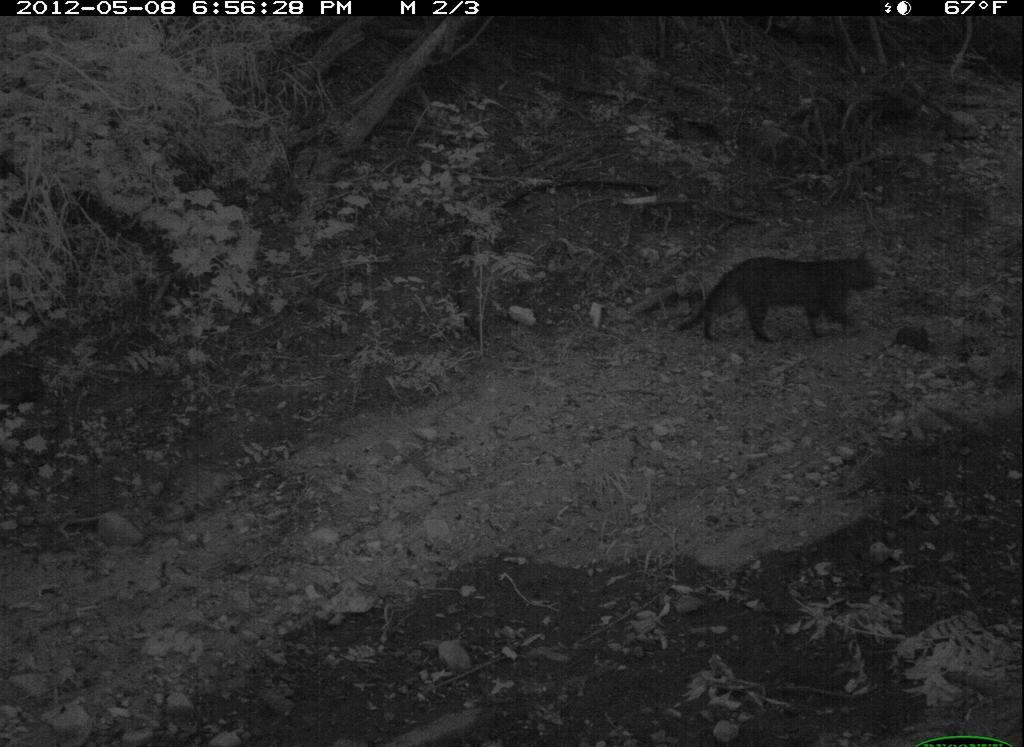cat: (678, 245, 889, 354)
